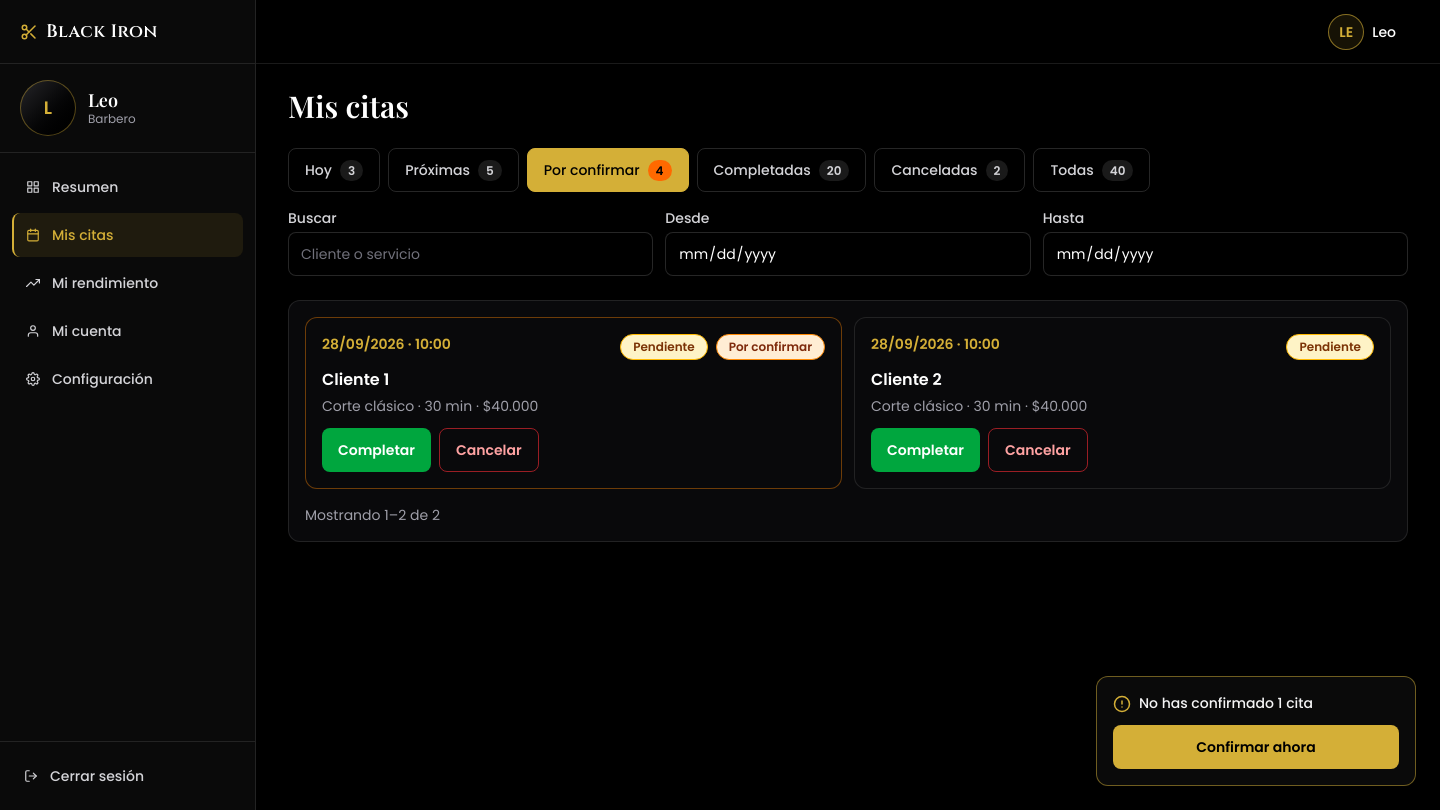
/panel/citas: completar y cancelar › cuando se confirma la última, el aviso persistente desaparece
Expected: the text "No has confirmado 1 cita" is shown, left=1139, top=693, right=1313, bottom=713
Expected: the text "Mostrando 1–2 de 2" is shown, left=305, top=505, right=440, bottom=525
Click the button with aria-label "Completar la cita de Cliente 1": (376, 450) left=322, top=428, right=431, bottom=472
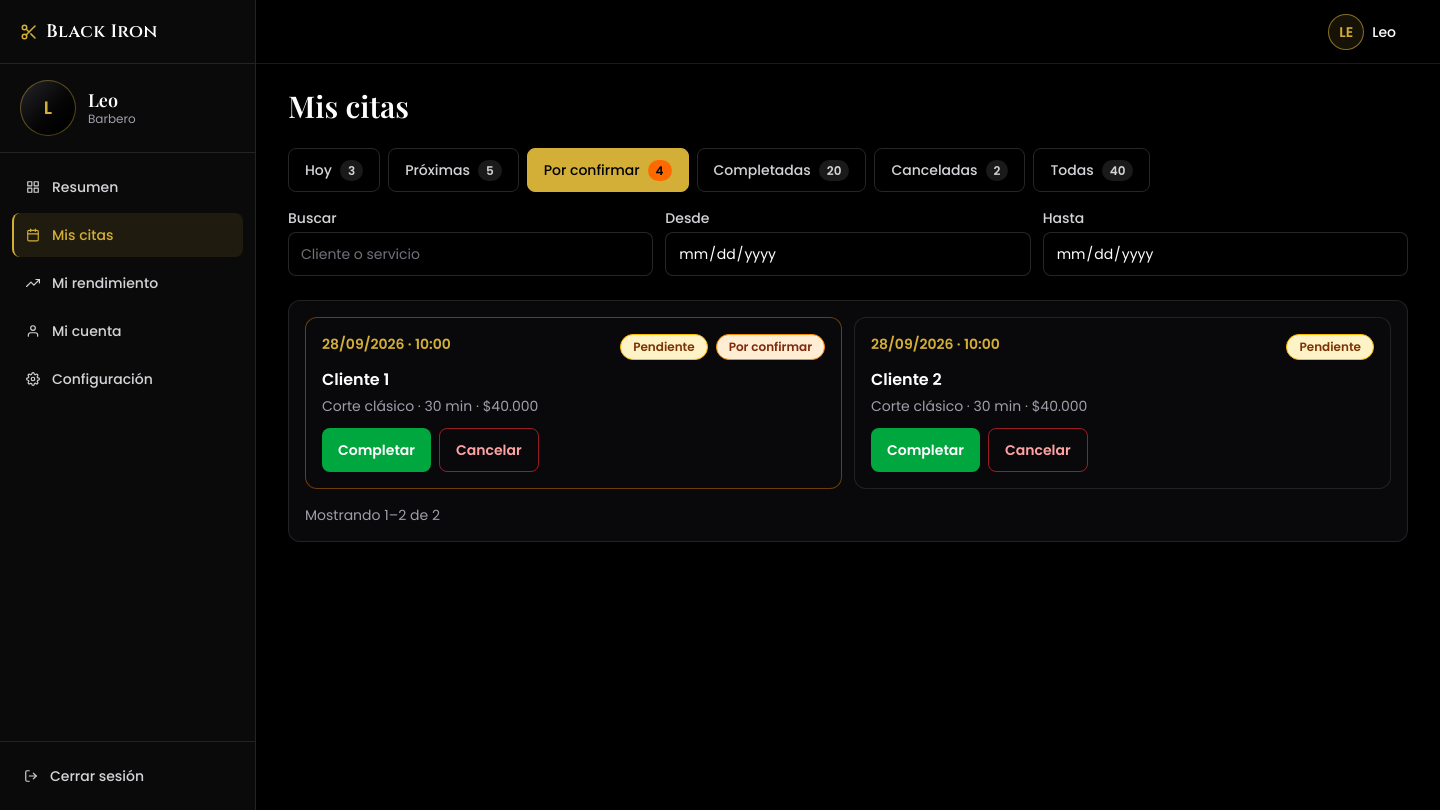
Expected: the text "No has confirmado" is gone
